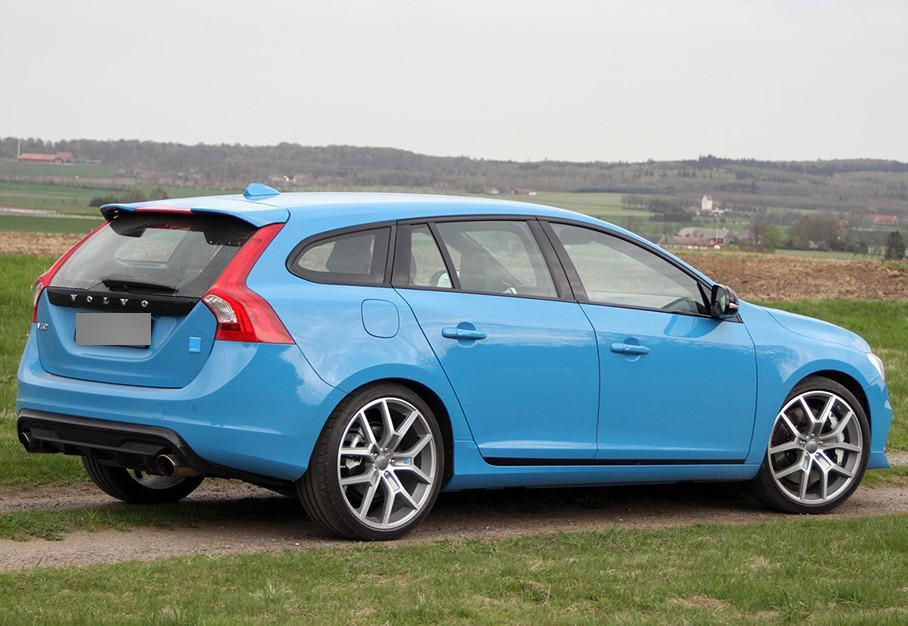Wagon: (15, 183, 892, 542)
